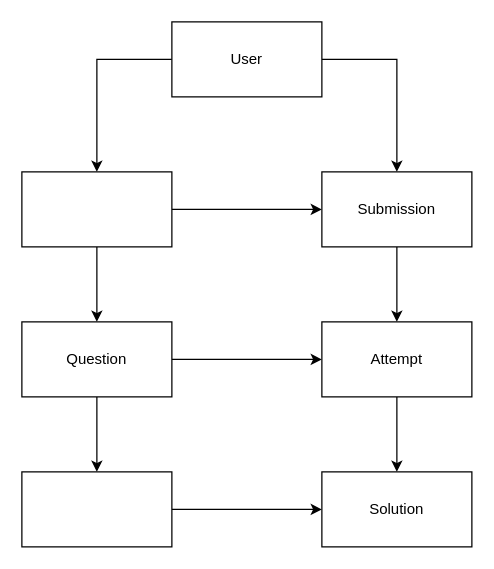
Image size: 494x569. Some labels were removed from this diagram. Each missing label, with the centre of its shape:
Answer: point 96,509
Quiz: point 96,209
